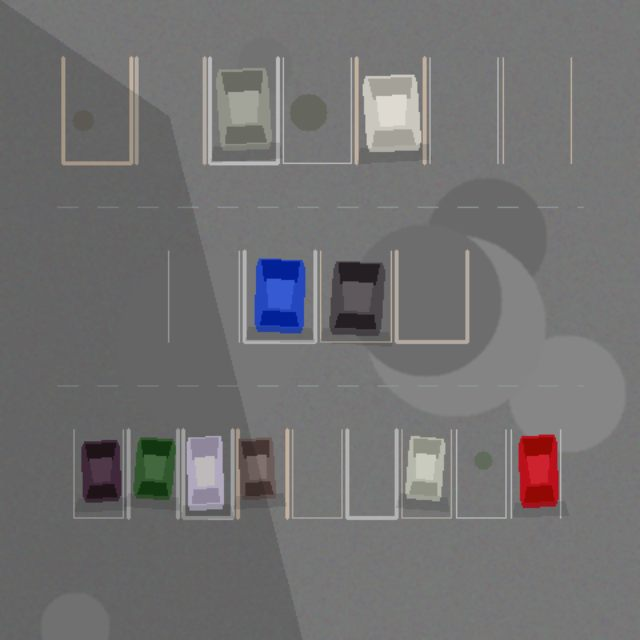space-empty: (63, 57, 131, 163), (136, 57, 204, 163), (283, 57, 351, 163), (429, 57, 497, 163), (503, 57, 571, 163), (168, 251, 239, 341), (396, 251, 467, 341), (292, 429, 341, 517), (347, 429, 396, 517), (456, 429, 505, 517)
space-occupied: (209, 57, 277, 163), (356, 57, 424, 163), (244, 251, 315, 341), (320, 251, 391, 341), (73, 429, 123, 517), (237, 429, 287, 517), (401, 429, 451, 517), (128, 429, 177, 517), (183, 429, 232, 517), (511, 429, 560, 517)
